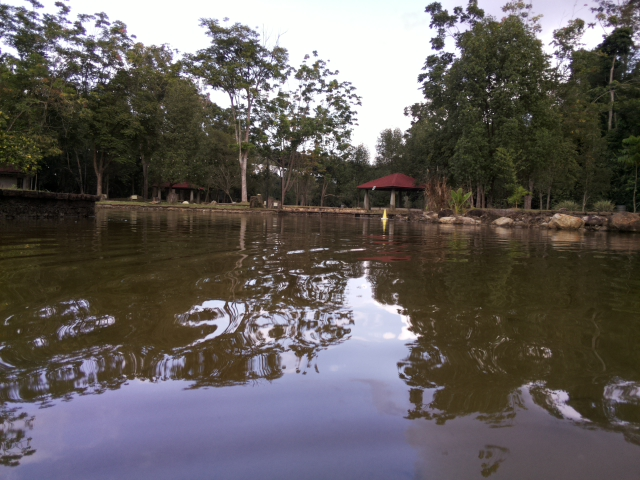checkpoint: (380, 209, 389, 221)
